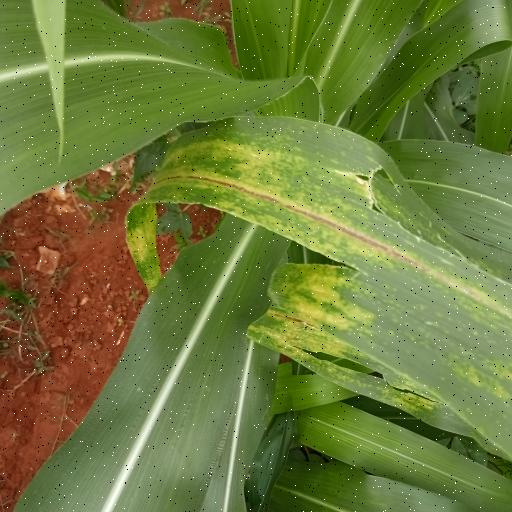Corn_Brown_Spots: (122, 124, 512, 436)
